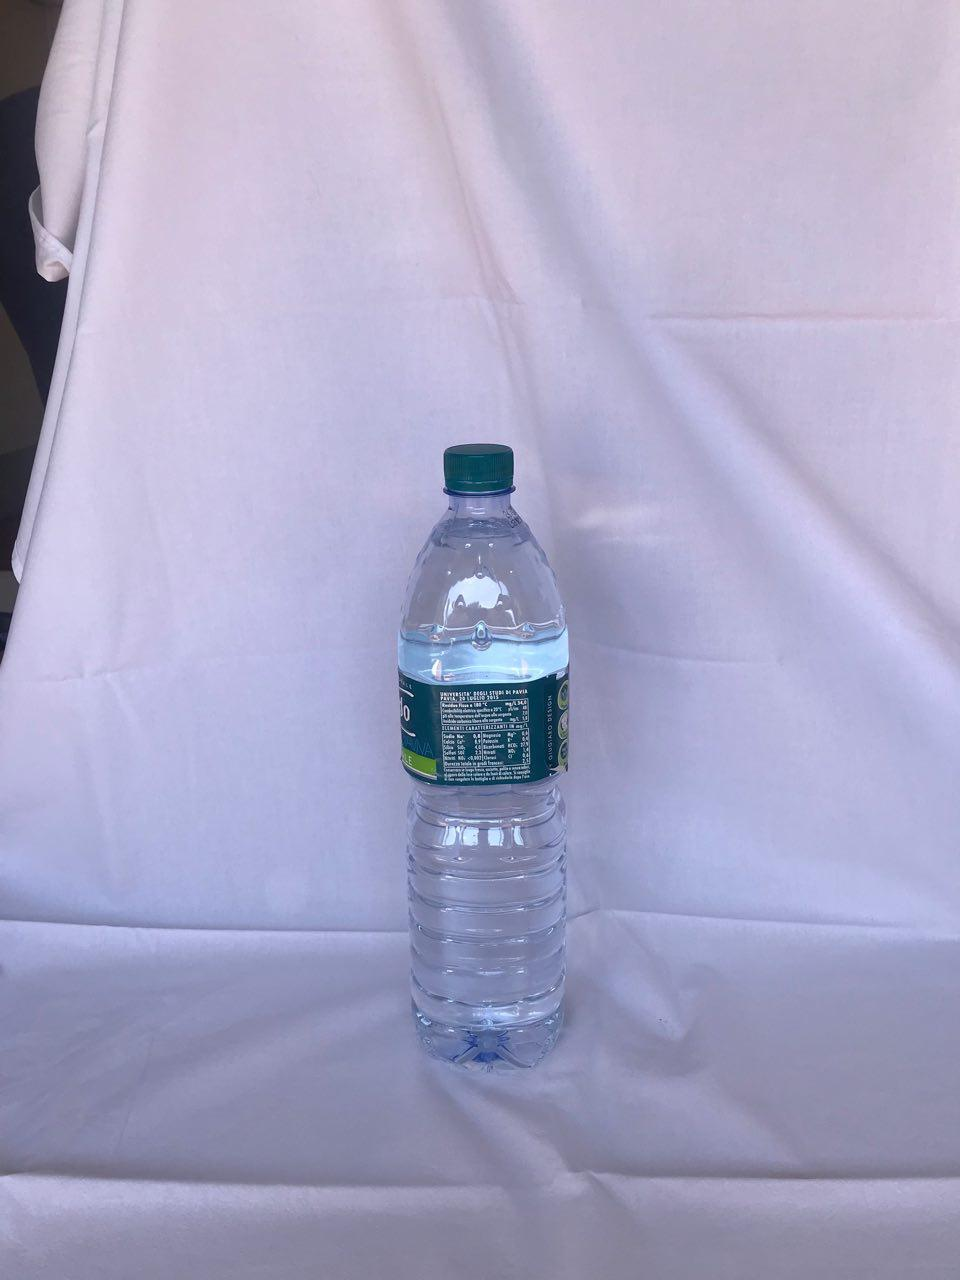san_bernardo: (395, 442, 572, 1073)
